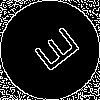E: (25, 25, 82, 80)
